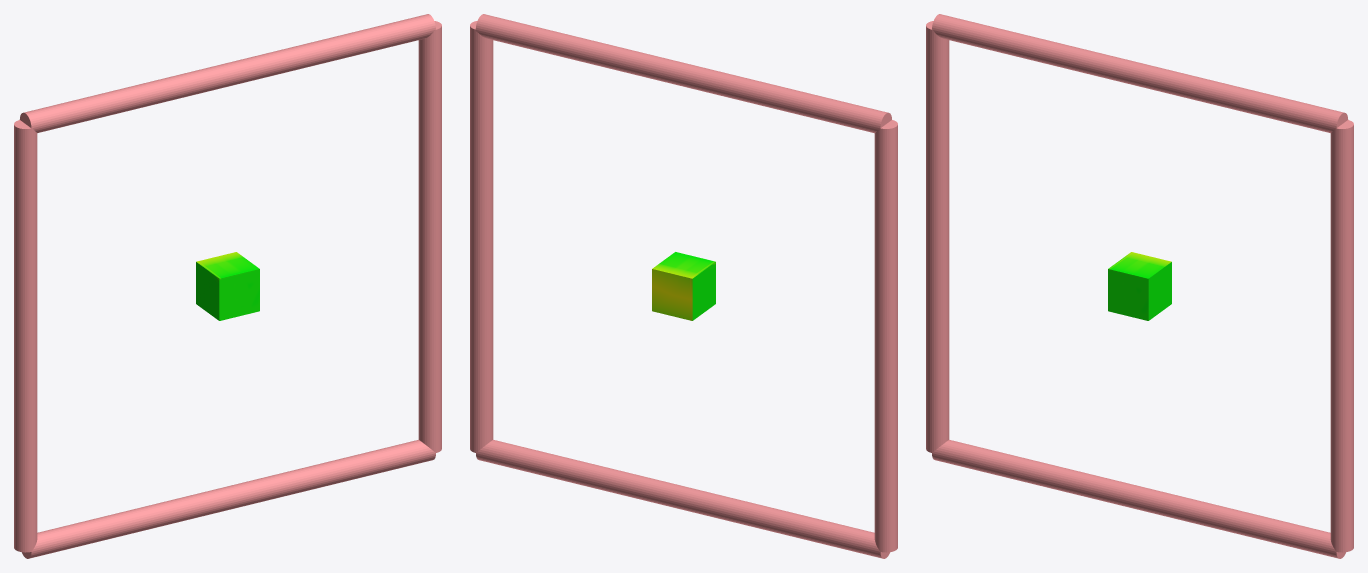
Rendered from frame2_multi_10.gltf.
3 views of the same model, side by side, from view 1: azimuth 30°, elevation 25°; view 2: azimuth 150°, elevation 25°; view 3: azimuth 330°, elevation 25° (orthographic).
Visible parts, largest first — view 1: DetectionFrame.00, DetectionLabel.00; view 2: DetectionFrame.00, DetectionLabel.00; view 3: DetectionFrame.00, DetectionLabel.00.
Boxes of the visible parts, x1=… form: DetectionFrame.00: x1=14, y1=14, x2=441, y2=558; DetectionLabel.00: x1=196, y1=252, x2=259, y2=320; DetectionFrame.00: x1=470, y1=14, x2=897, y2=558; DetectionLabel.00: x1=652, y1=252, x2=715, y2=320; DetectionFrame.00: x1=926, y1=14, x2=1353, y2=558; DetectionLabel.00: x1=1108, y1=252, x2=1171, y2=320.
Size of the model in its own units: 10.5 by 10.5 by 1.
Materials: 20 (10 with a texture image).
